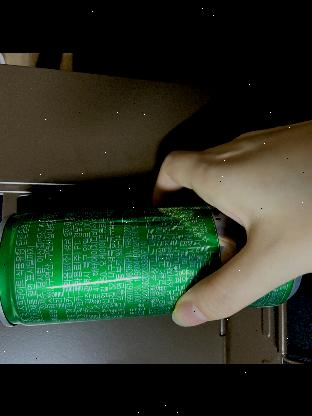Can: (0, 202, 244, 329)
